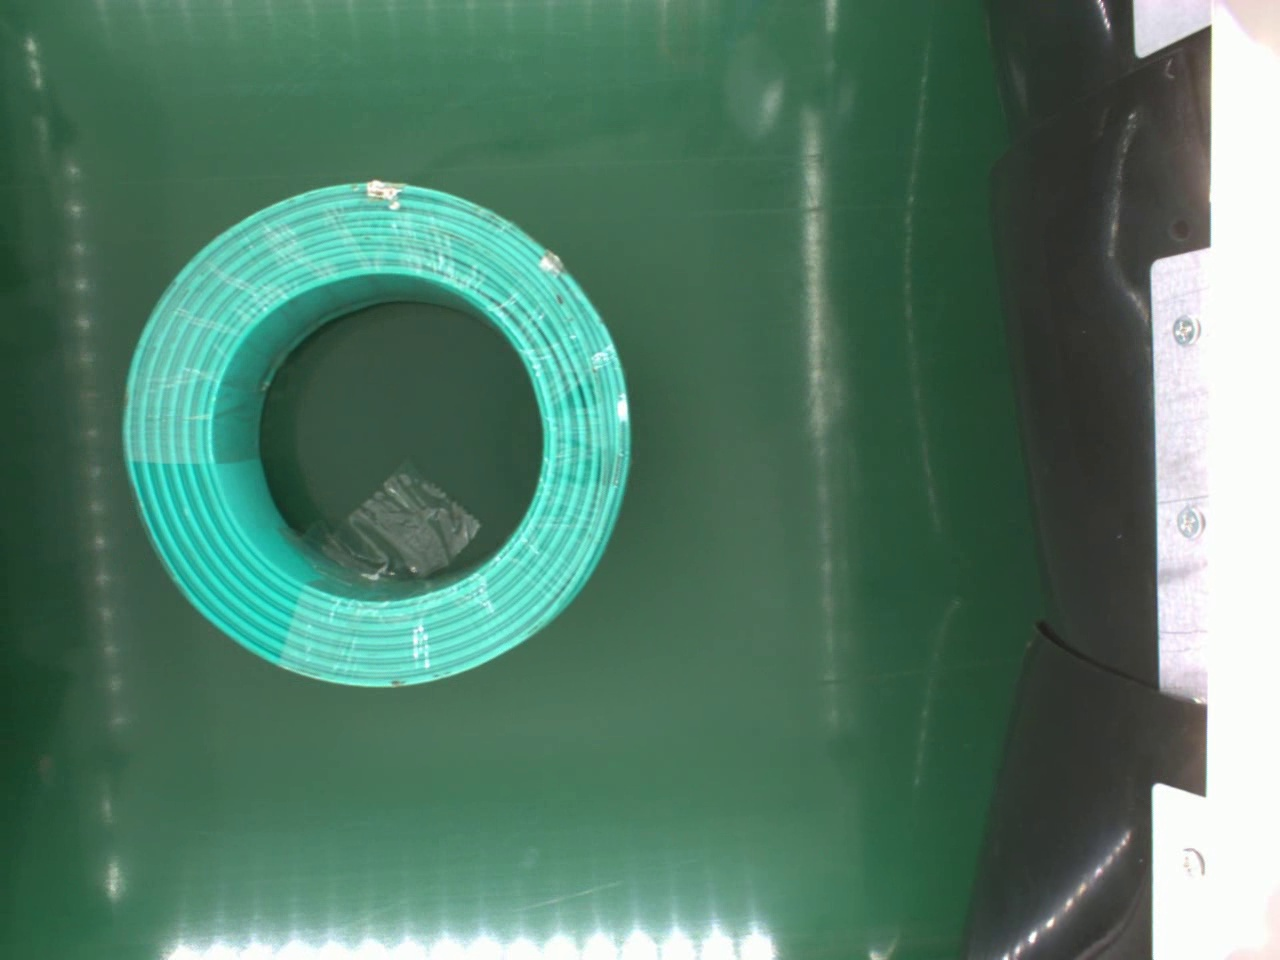green: (117, 173, 640, 692)
